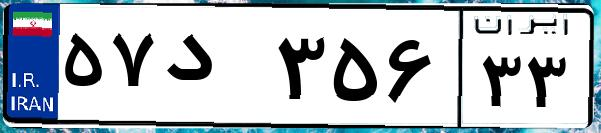3: (270, 28, 330, 110), (475, 38, 525, 113), (525, 38, 570, 115)
5: (330, 28, 385, 110), (57, 26, 110, 100)
6: (385, 28, 445, 110)
7: (110, 28, 158, 98)
د: (158, 20, 270, 120)
